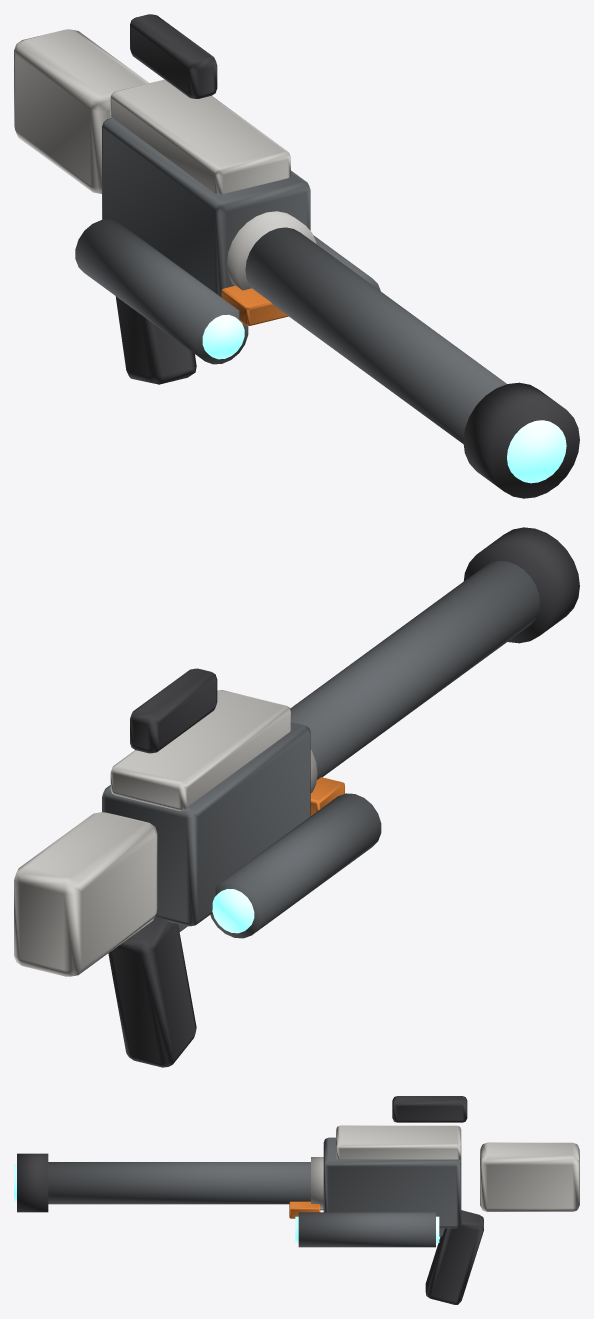
The model's file is breach_cannon.glb.
The picture shows the model from 3 angles, top to bottom: view 1: azimuth 30°, elevation 25°; view 2: azimuth 150°, elevation 25°; view 3: azimuth 270°, elevation 25°; orthographic projection. The views are drawn at different scales.
Parts seen in each view (by area): view 1: bc_barrel, bc_body, bc_stock, bc_top, bc_cap_L, bc_muzzle, bc_handle, bc_grip, bc_core, bc_collar, bc_cap_glow_L, bc_vent; view 2: bc_barrel, bc_stock, bc_body, bc_top, bc_cap_L, bc_grip, bc_muzzle, bc_handle, bc_cap_glow_L, bc_vent; view 3: bc_barrel, bc_body, bc_stock, bc_cap_R, bc_top, bc_grip, bc_handle, bc_muzzle, bc_collar, bc_vent.
Boxes of the visible parts, bbox=[...] form: bc_barrel: bbox=[245, 227, 506, 443]; bc_body: bbox=[102, 118, 310, 296]; bc_stock: bbox=[14, 29, 149, 193]; bc_top: bbox=[110, 79, 290, 194]; bc_cap_L: bbox=[75, 219, 248, 364]; bc_muzzle: bbox=[463, 382, 579, 498]; bc_handle: bbox=[130, 14, 217, 98]; bc_grip: bbox=[115, 296, 196, 384]; bc_core: bbox=[507, 420, 566, 483]; bc_collar: bbox=[227, 211, 316, 290]; bc_cap_glow_L: bbox=[202, 314, 244, 359]; bc_vent: bbox=[221, 285, 288, 325]; bc_barrel: bbox=[290, 560, 540, 779]; bc_stock: bbox=[14, 812, 157, 976]; bc_body: bbox=[102, 722, 310, 926]; bc_top: bbox=[110, 690, 290, 810]; bc_cap_L: bbox=[210, 793, 381, 938]; bc_grip: bbox=[108, 916, 196, 1067]; bc_muzzle: bbox=[463, 527, 579, 643]; bc_handle: bbox=[130, 668, 217, 753]; bc_cap_glow_L: bbox=[212, 889, 254, 933]; bc_vent: bbox=[310, 777, 344, 815]; bc_barrel: bbox=[48, 1162, 310, 1204]; bc_body: bbox=[323, 1137, 461, 1228]; bc_stock: bbox=[480, 1142, 579, 1211]; bc_cap_R: bbox=[298, 1212, 435, 1247]; bc_top: bbox=[336, 1125, 461, 1160]; bc_grip: bbox=[425, 1210, 483, 1304]; bc_handle: bbox=[392, 1096, 467, 1122]; bc_muzzle: bbox=[17, 1153, 48, 1212]; bc_collar: bbox=[311, 1157, 323, 1209]; bc_vent: bbox=[289, 1201, 320, 1218].
Size of the model in its own units: 0.1951 by 0.3576 by 0.905.
